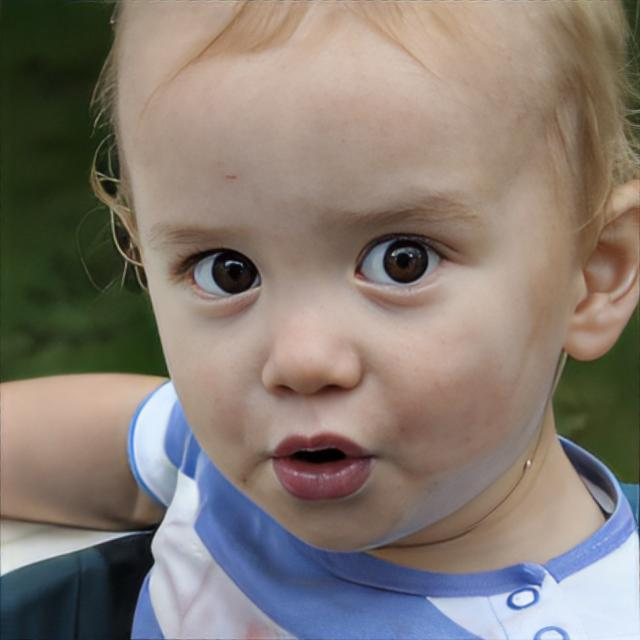surprise: (115, 0, 562, 556)
